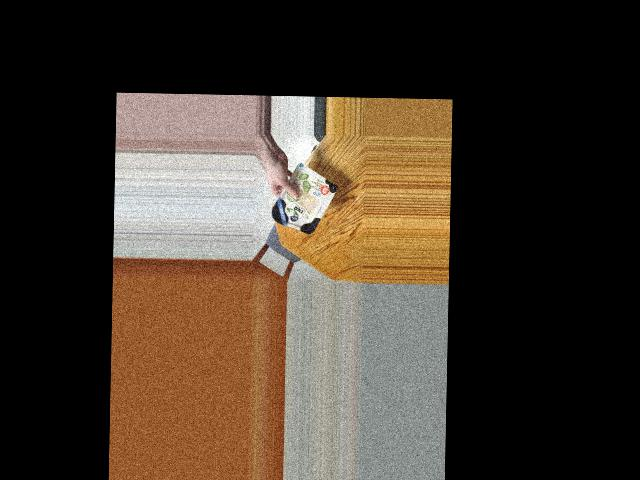cheese: (272, 170, 334, 233)
